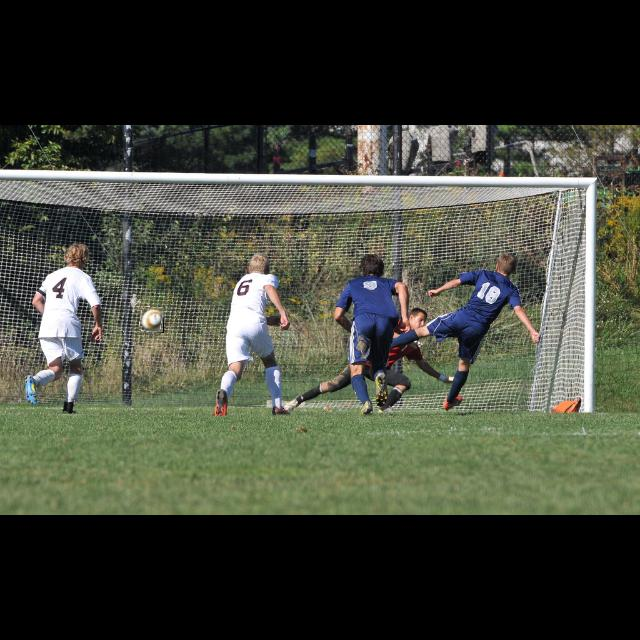Football: (140, 307, 164, 333)
